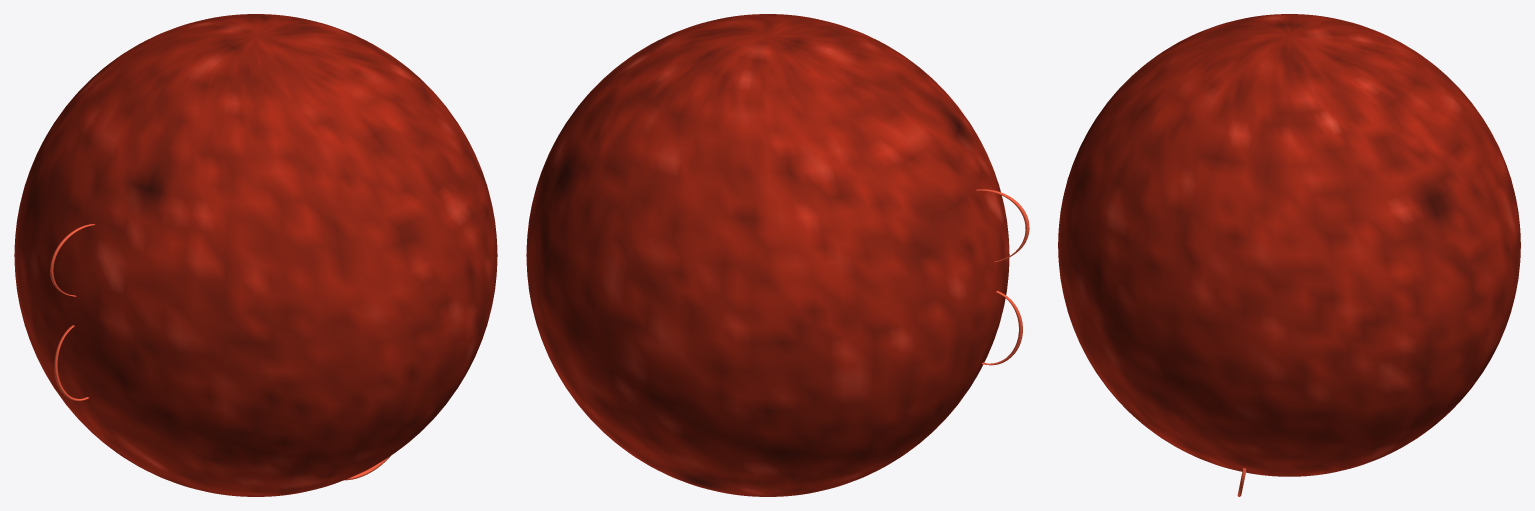
The model's file is Star_11.fbx.
3 renders of one model, left to right at view 1: azimuth 30°, elevation 25°; view 2: azimuth 150°, elevation 25°; view 3: azimuth 270°, elevation 25°, orthographic. The views are drawn at different scales.
Visible parts, largest first — view 1: Star_11; view 2: Star_11; view 3: Star_11.
Boxes of the visible parts, x1,y1,x2,y2 form: Star_11: [14, 14, 497, 496]; Star_11: [526, 14, 1029, 496]; Star_11: [1058, 14, 1520, 496].
Bounding box in the file's own units: 212 × 201 × 200.
